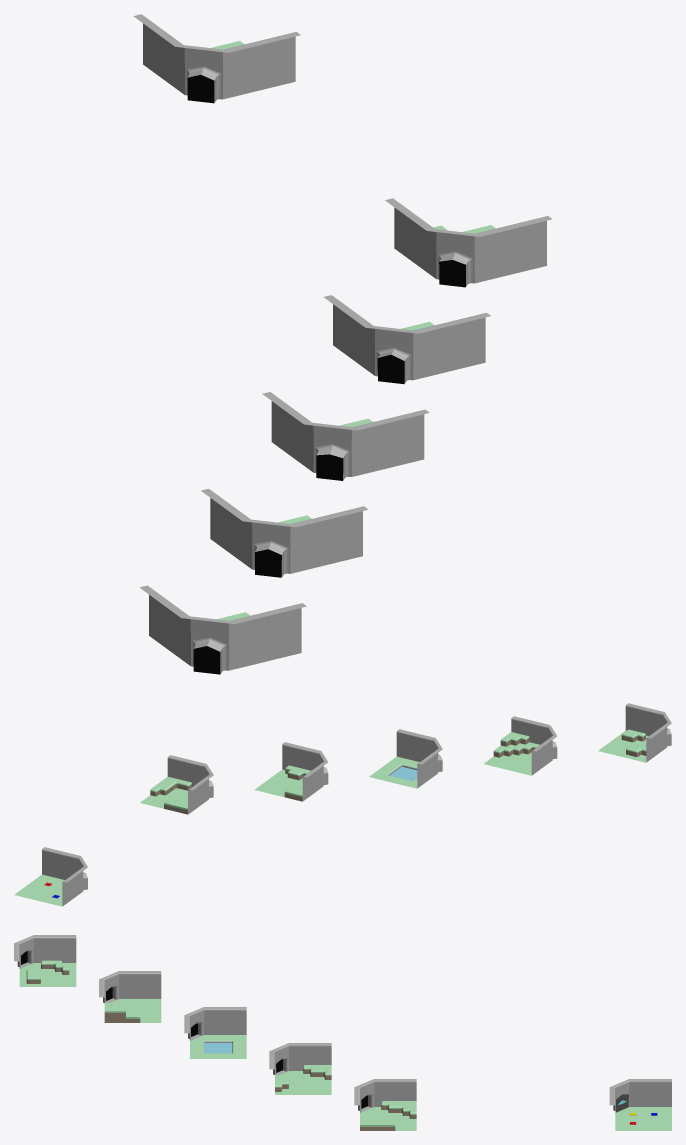
Rendered from FirstStage1.fbx.
The picture shows the model from 3 angles, top to bottom: view 1: azimuth 30°, elevation 25°; view 2: azimuth 150°, elevation 25°; view 3: azimuth 270°, elevation 25°; orthographic projection. The views are drawn at different scales.
Parts seen in each view (by area): view 1: Stage1, Stage3, StageW, Stage5, Stage2, Stage4; view 2: Stage4, Stage1, Stage5, Stage2, StageW, Stage3; view 3: Stage5, Stage4, Stage1, Stage2, StageW, Stage3, Plane.
Boxes of the visible parts, box(x1,y1,x2,y2) form: Stage1: box(385, 198, 552, 287); Stage3: box(262, 392, 429, 480); StageW: box(133, 14, 300, 103); Stage5: box(139, 585, 306, 674); Stage2: box(324, 295, 490, 384); Stage4: box(201, 489, 367, 577); Stage4: box(484, 716, 557, 775); Stage1: box(140, 755, 213, 814); Stage5: box(598, 703, 671, 762); Stage2: box(254, 742, 328, 801); StageW: box(14, 847, 87, 906); Stage3: box(369, 729, 442, 788); Stage5: box(14, 935, 76, 986); Stage4: box(99, 971, 161, 1022); Stage1: box(354, 1079, 416, 1130); Stage2: box(269, 1043, 331, 1094); StageW: box(609, 1079, 671, 1130); Stage3: box(184, 1007, 246, 1058); Plane: box(204, 1043, 232, 1053).
Bounding box in the file's own units: 14200 × 1200 × 23200.
